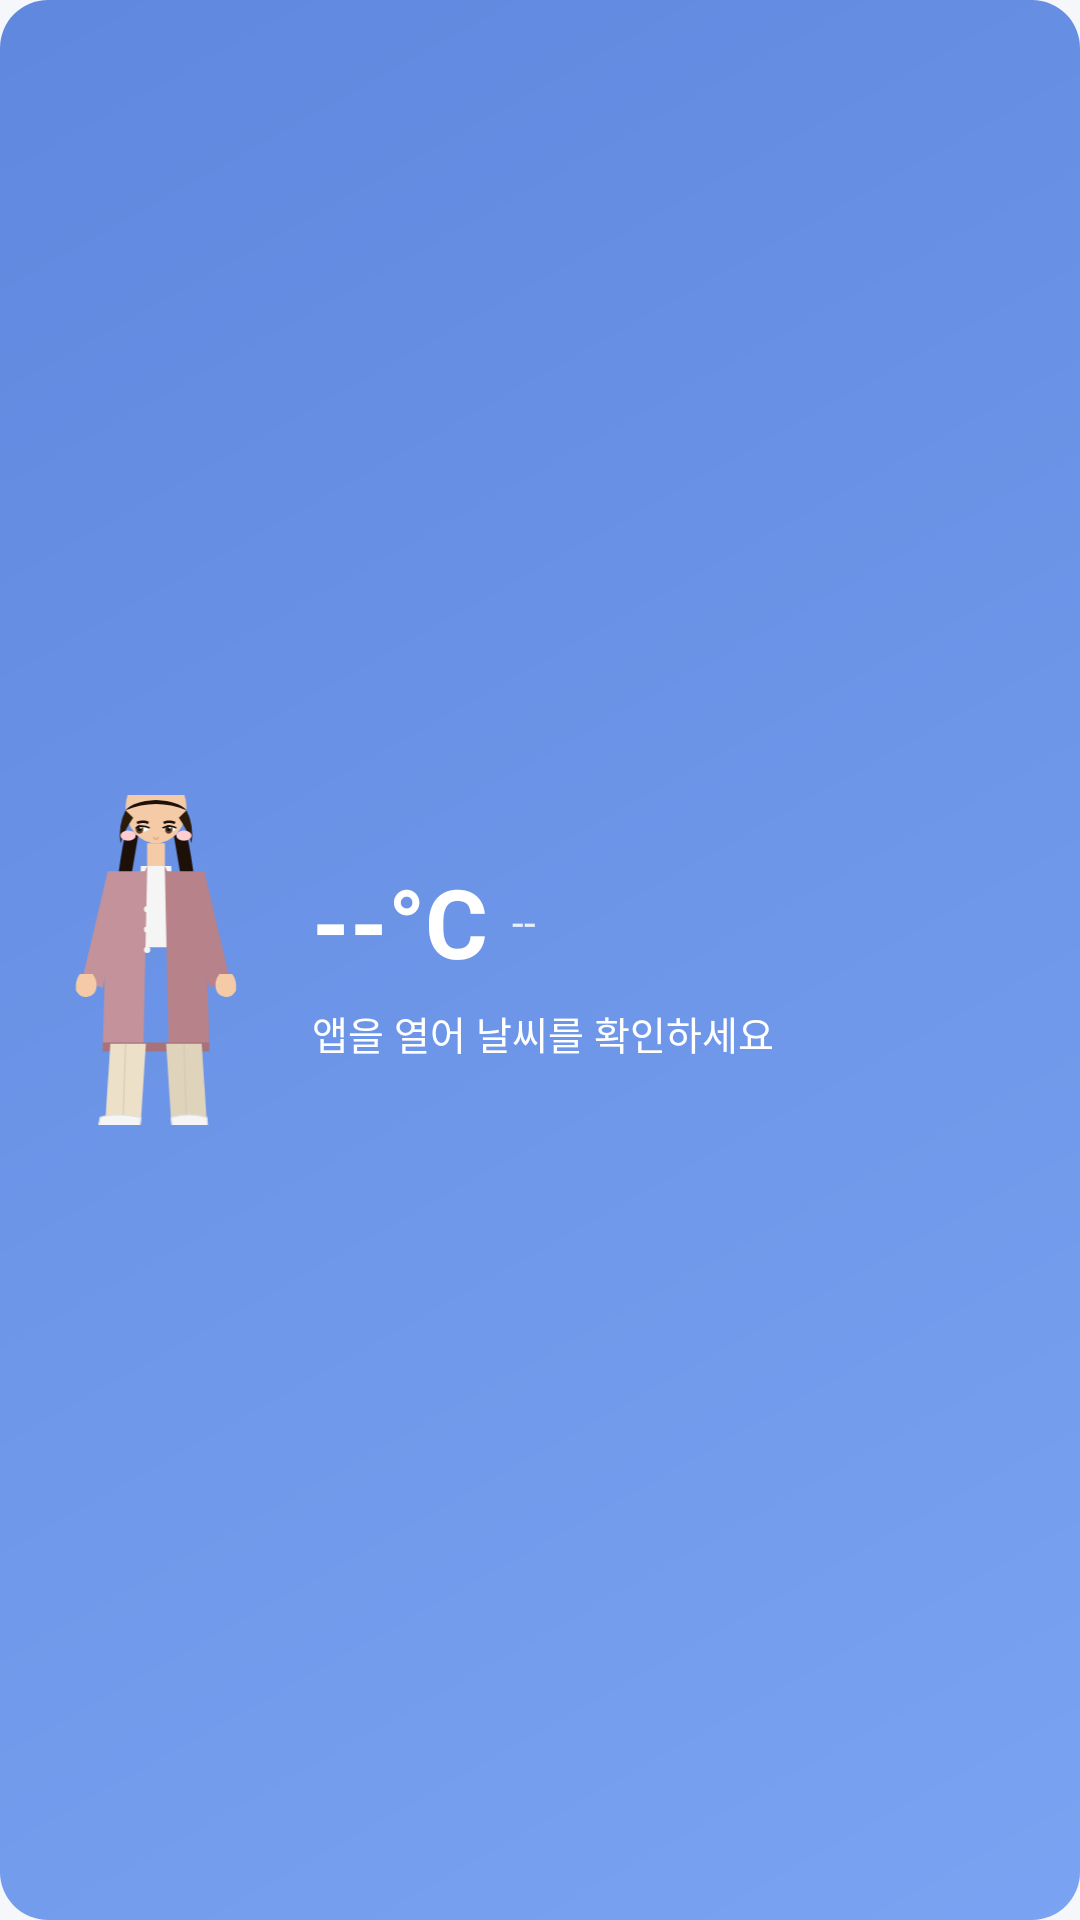

Locate icon controls on the screen. Image size 1080w x 1920h, boxes as [left=x1, top=y1, right=x2, bottom=y2].
날씨 캐릭터: [left=75, top=795, right=237, bottom=1125]
